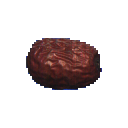gd: (20, 13, 119, 105)
